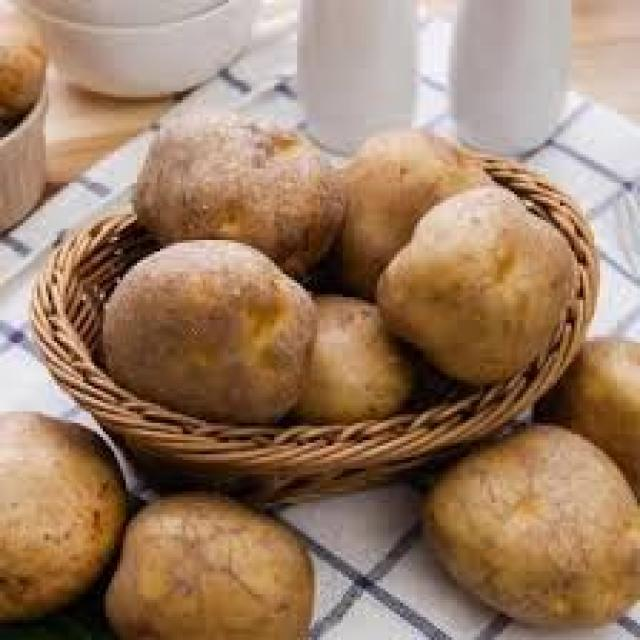potato: (426, 426, 640, 627), (377, 186, 577, 386), (103, 240, 317, 426), (137, 129, 346, 276), (107, 494, 316, 640)
